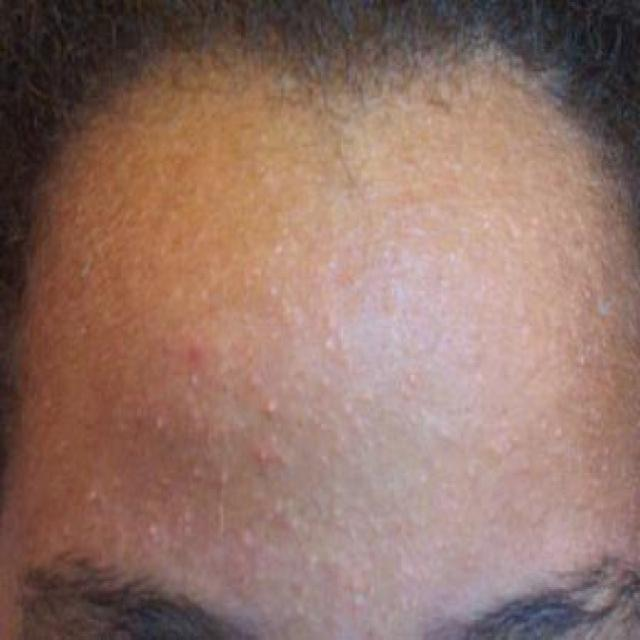whiteheads: (343, 573, 368, 611), (83, 475, 106, 511), (262, 389, 284, 426), (400, 363, 428, 391), (212, 467, 240, 495), (152, 410, 175, 442), (183, 457, 205, 489), (249, 438, 271, 469), (245, 363, 266, 395), (305, 540, 323, 573), (315, 369, 334, 399), (534, 412, 557, 436), (506, 218, 525, 247), (268, 495, 290, 520), (146, 516, 165, 544), (182, 369, 206, 391), (337, 397, 355, 426), (318, 332, 336, 357), (278, 224, 297, 247), (268, 275, 282, 306), (237, 522, 255, 546), (296, 595, 310, 624), (552, 424, 570, 446), (582, 283, 596, 308), (282, 599, 296, 622), (60, 520, 72, 544)
